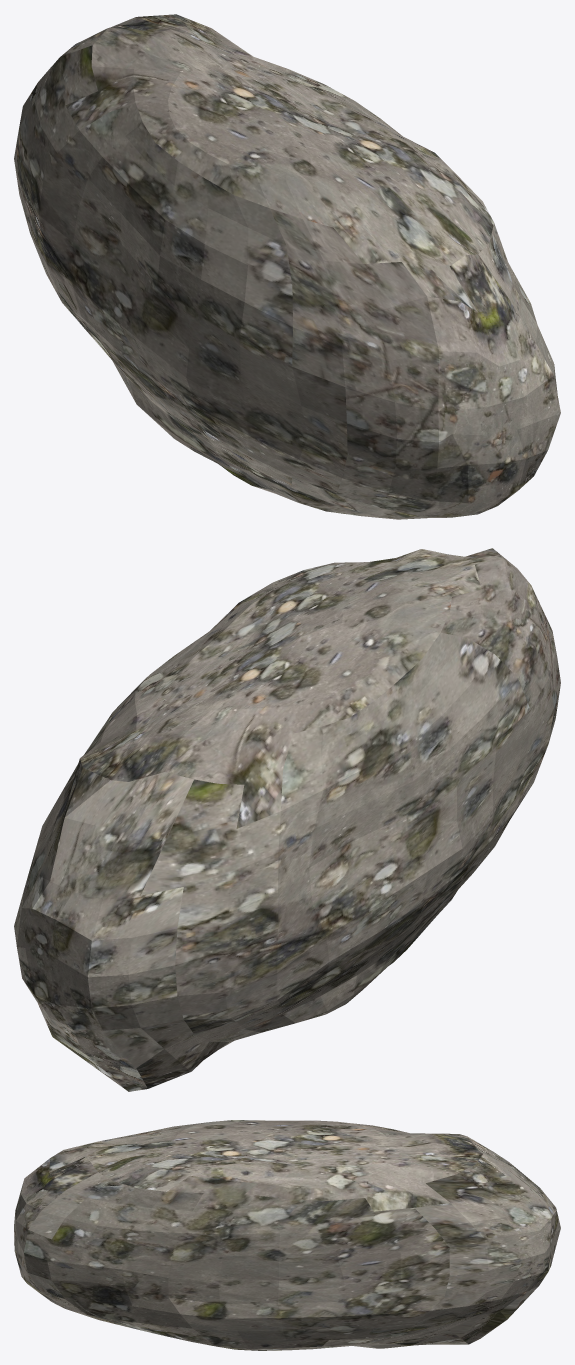
File: metor2.fbx
3 renders of one model, top to bottom at view 1: azimuth 30°, elevation 25°; view 2: azimuth 150°, elevation 25°; view 3: azimuth 270°, elevation 25°, orthographic. The views are drawn at different scales.
Visible parts, largest first — view 1: Sphere; view 2: Sphere; view 3: Sphere.
Part boxes in pixels (box(x1,y1,x2,y2)): Sphere: box(14, 14, 560, 519); Sphere: box(14, 548, 560, 1091); Sphere: box(14, 1120, 560, 1350).
Size of the model in its own units: 1.21 by 1.43 by 3.43.
